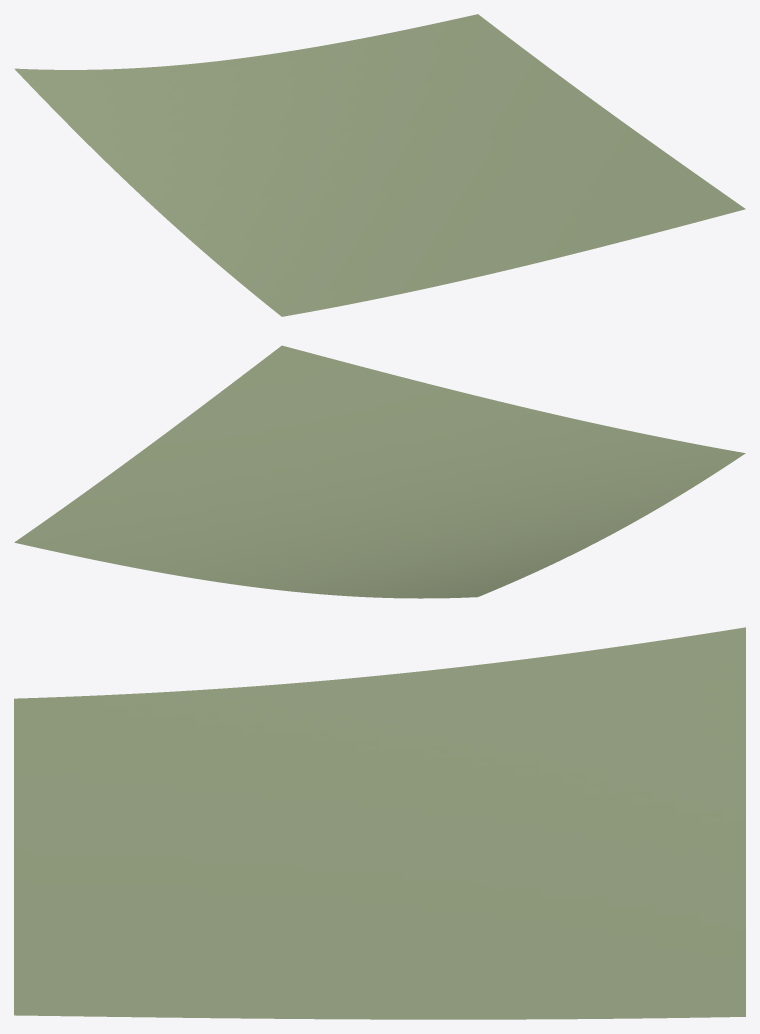
File: expanse-30-28.glb
The picture shows the model from 3 angles, top to bottom: view 1: azimuth 30°, elevation 25°; view 2: azimuth 150°, elevation 25°; view 3: azimuth 270°, elevation 25°; orthographic projection. The views are drawn at different scales.
Parts seen in each view (by area): view 1: expanse-30-28; view 2: expanse-30-28; view 3: expanse-30-28.
Part boxes in pixels (x1,y1,x2,y2): expanse-30-28: (14, 14, 745, 316); expanse-30-28: (14, 345, 745, 598); expanse-30-28: (14, 627, 745, 1019).
Bounding box in the file's own units: 256 × 32.3 × 256.
